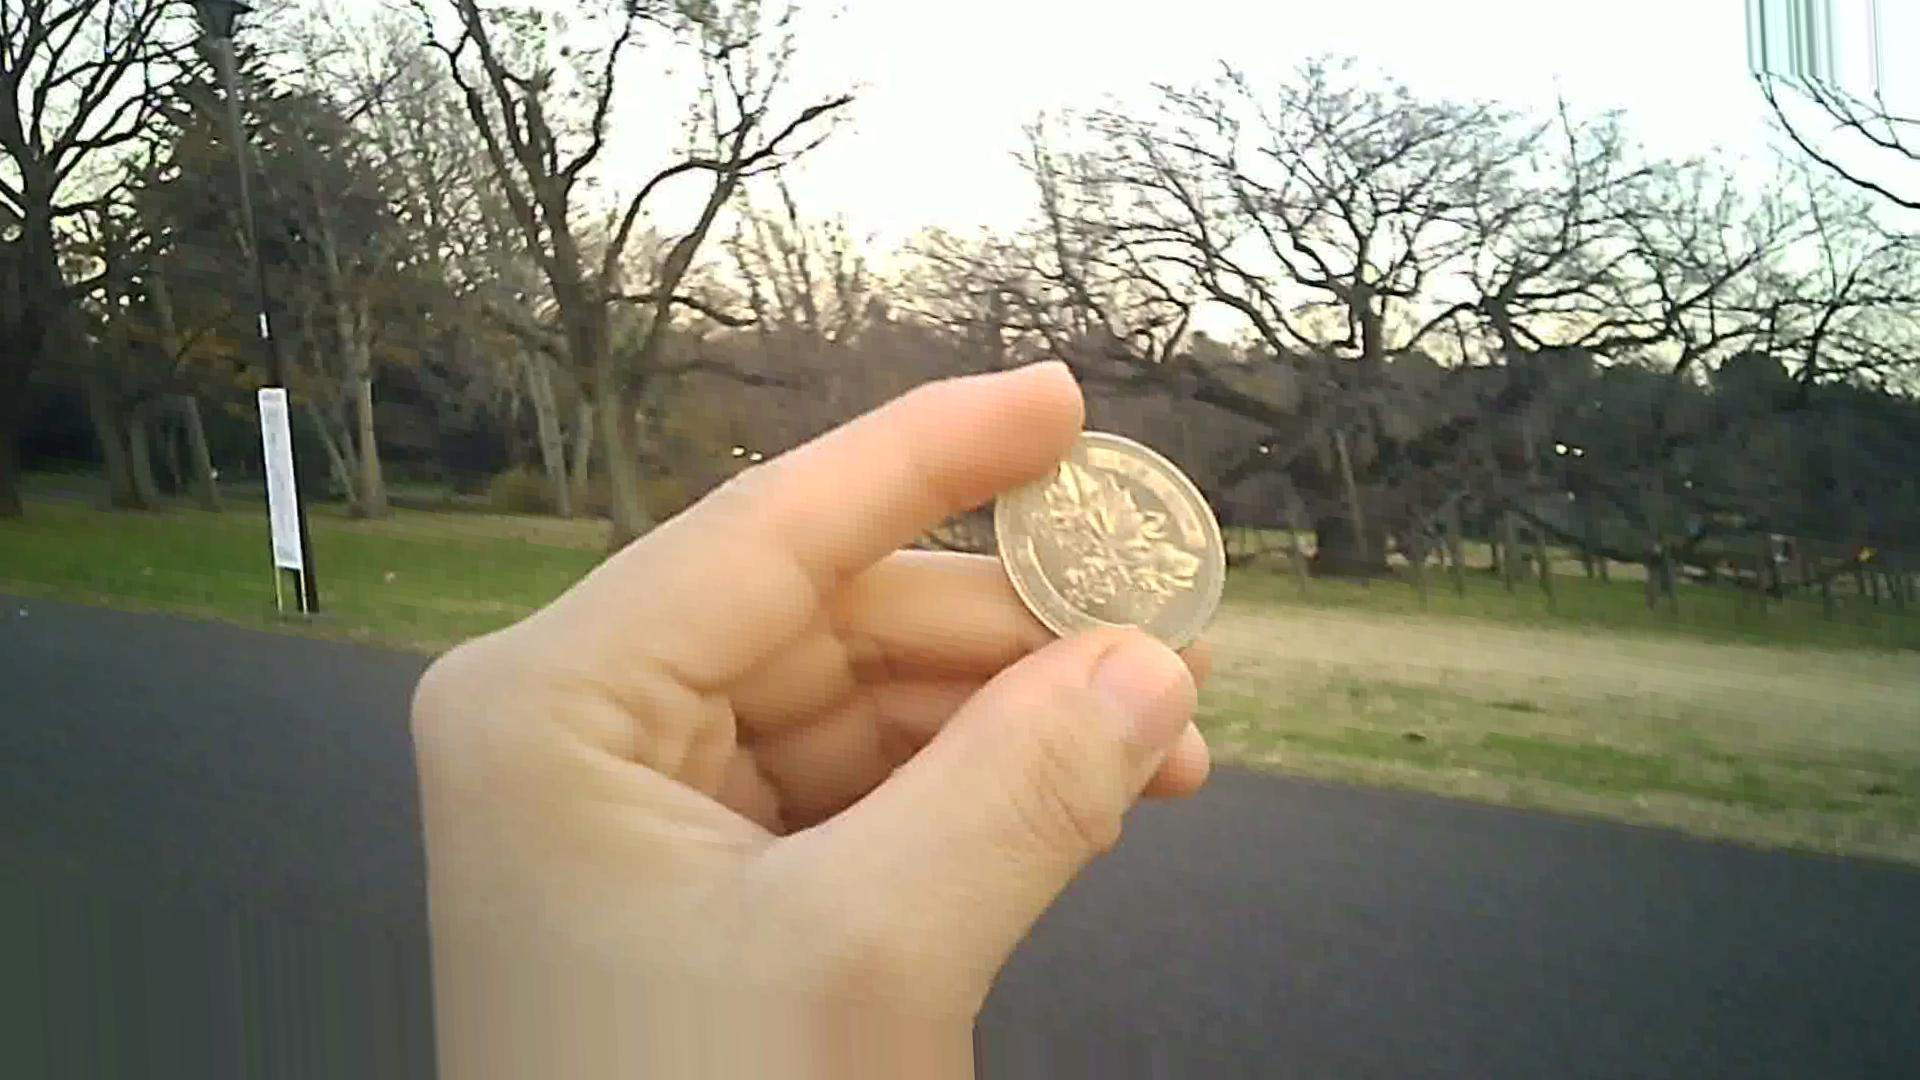500 Yen: (982, 415, 1237, 640)
